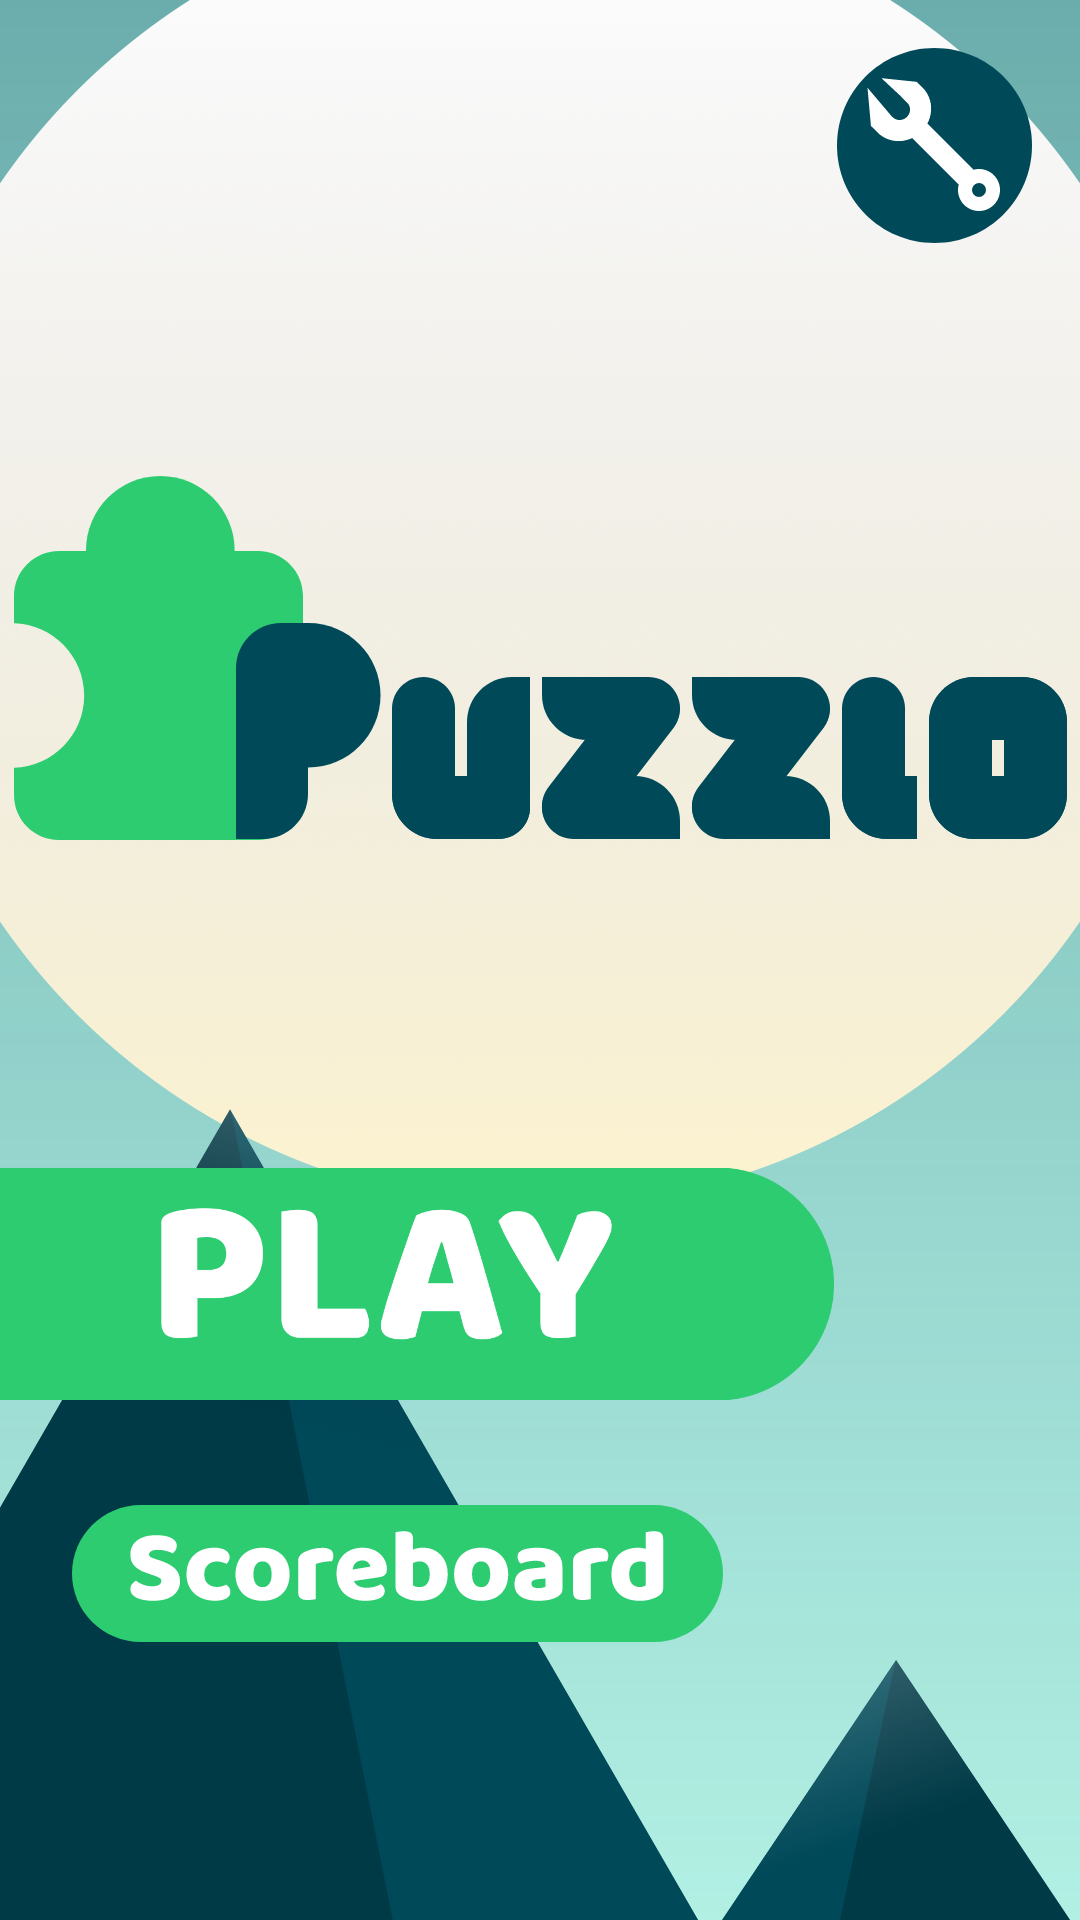

Named icons in this screenshot (1080w x 1920h) and their centers, [x,y]:
settings: [934,145]
